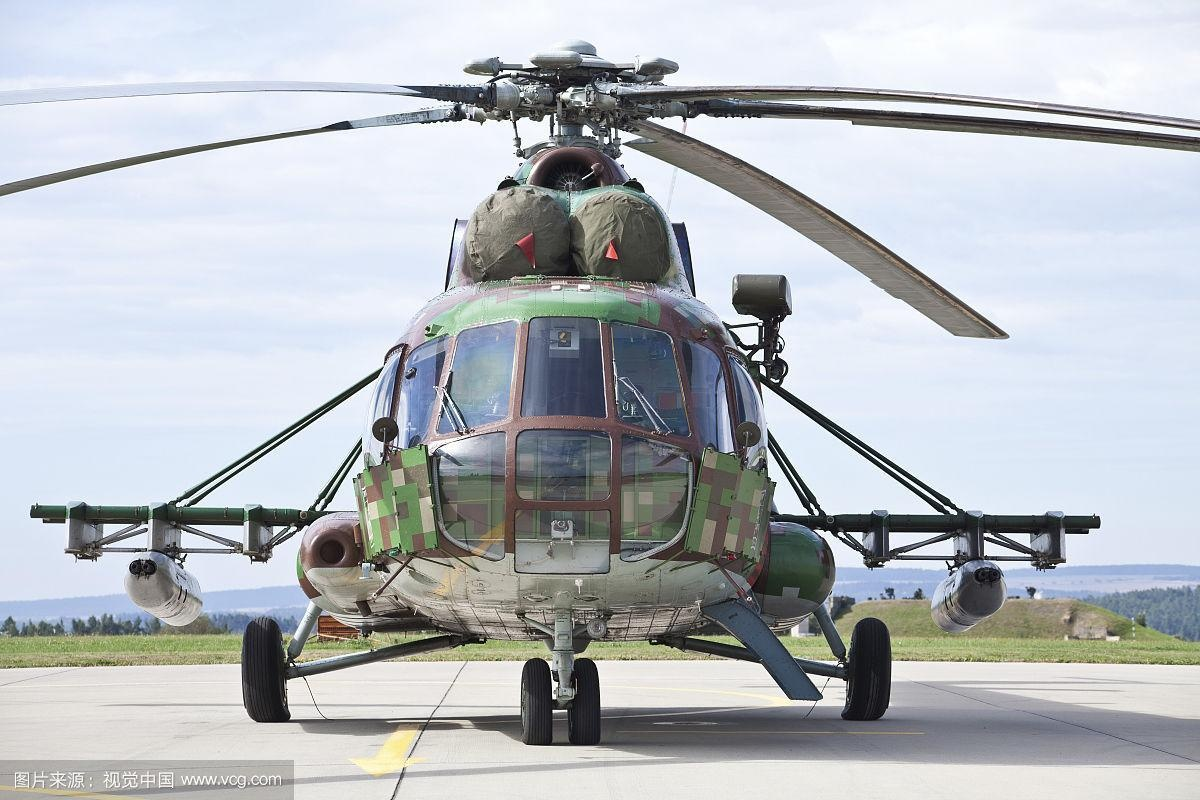airplane: (17, 44, 1199, 748)
